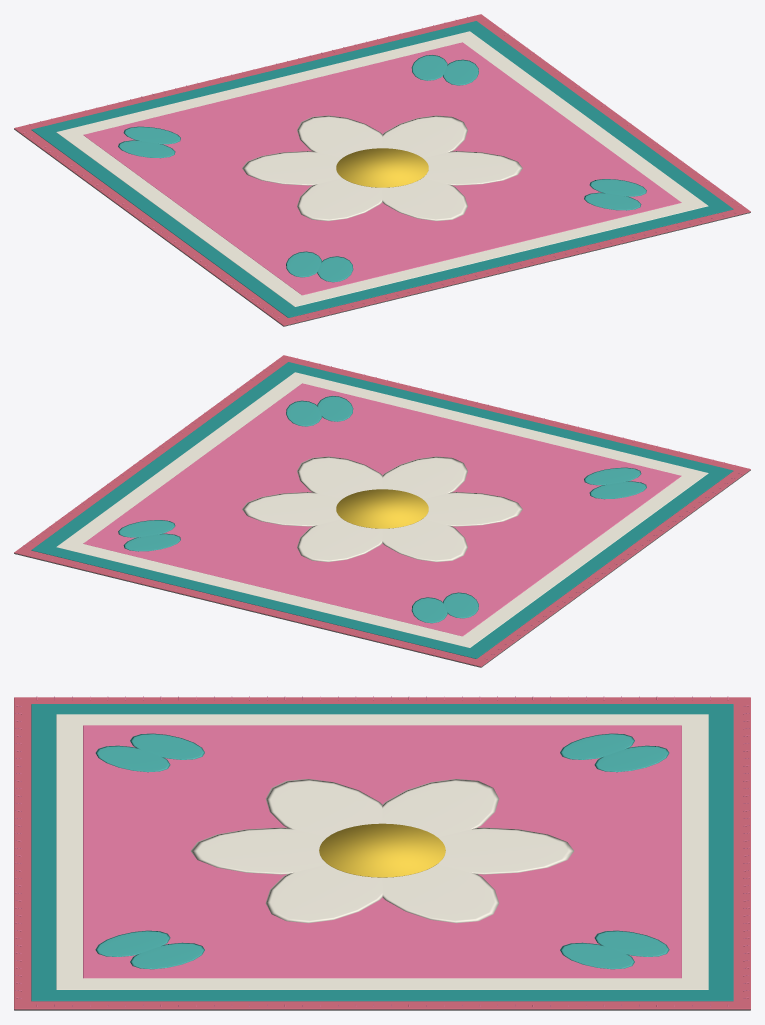
Rendered from floral_rug.glb.
The picture shows the model from 3 angles, top to bottom: view 1: azimuth 30°, elevation 25°; view 2: azimuth 150°, elevation 25°; view 3: azimuth 270°, elevation 25°; orthographic projection. The views are drawn at different scales.
Parts seen in each view (by area): view 1: Pink_field, Teal_border, Cream_border, Bound_pink_edge, Flat_yellow_centre, Flat_woven_daisy_petal.005, Flat_woven_daisy_petal, Flat_woven_daisy_petal.001, Flat_woven_daisy_petal.004, Flat_woven_daisy_petal.003, Flat_woven_daisy_petal.002, Non_slip_backing (+8 smaller); view 2: Pink_field, Teal_border, Cream_border, Bound_pink_edge, Flat_yellow_centre, Flat_woven_daisy_petal.003, Flat_woven_daisy_petal.004, Flat_woven_daisy_petal.002, Flat_woven_daisy_petal.005, Flat_woven_daisy_petal.001, Flat_woven_daisy_petal, Non_slip_backing (+8 smaller); view 3: Pink_field, Teal_border, Cream_border, Bound_pink_edge, Flat_yellow_centre, Flat_woven_daisy_petal.002, Flat_woven_daisy_petal.001, Flat_woven_daisy_petal, Flat_woven_daisy_petal.003, Flat_woven_daisy_petal.004, Flat_woven_daisy_petal.005, Non_slip_backing (+8 smaller).
Boxes of the visible parts, bbox=[...] form: Pink_field: bbox=[83, 42, 681, 295]; Teal_border: bbox=[31, 21, 733, 317]; Cream_border: bbox=[56, 31, 708, 306]; Bound_pink_edge: bbox=[14, 14, 750, 325]; Flat_yellow_centre: bbox=[336, 148, 428, 187]; Flat_woven_daisy_petal.005: bbox=[297, 178, 382, 221]; Flat_woven_daisy_petal: bbox=[382, 178, 467, 221]; Flat_woven_daisy_petal.001: bbox=[423, 151, 522, 185]; Flat_woven_daisy_petal.004: bbox=[242, 151, 341, 185]; Flat_woven_daisy_petal.003: bbox=[297, 115, 382, 158]; Flat_woven_daisy_petal.002: bbox=[382, 115, 467, 158]; Non_slip_backing: bbox=[14, 129, 750, 326]; Pink_field: bbox=[83, 383, 681, 636]; Teal_border: bbox=[31, 362, 733, 658]; Cream_border: bbox=[56, 372, 708, 647]; Bound_pink_edge: bbox=[14, 355, 750, 666]; Flat_yellow_centre: bbox=[336, 489, 428, 528]; Flat_woven_daisy_petal.003: bbox=[297, 519, 382, 562]; Flat_woven_daisy_petal.004: bbox=[382, 519, 467, 562]; Flat_woven_daisy_petal.002: bbox=[242, 492, 341, 526]; Flat_woven_daisy_petal.005: bbox=[423, 492, 522, 526]; Flat_woven_daisy_petal.001: bbox=[297, 456, 382, 499]; Flat_woven_daisy_petal: bbox=[382, 456, 467, 499]; Non_slip_backing: bbox=[14, 470, 750, 667]; Pink_field: bbox=[83, 725, 681, 978]; Teal_border: bbox=[31, 704, 733, 1001]; Cream_border: bbox=[56, 714, 708, 989]; Bound_pink_edge: bbox=[14, 697, 750, 1009]; Flat_yellow_centre: bbox=[319, 823, 445, 877]; Flat_woven_daisy_petal.002: bbox=[382, 864, 499, 923]; Flat_woven_daisy_petal.001: bbox=[265, 864, 382, 923]; Flat_woven_daisy_petal: bbox=[191, 827, 327, 874]; Flat_woven_daisy_petal.003: bbox=[437, 827, 573, 874]; Flat_woven_daisy_petal.004: bbox=[382, 779, 499, 837]; Flat_woven_daisy_petal.005: bbox=[265, 779, 382, 837]; Non_slip_backing: bbox=[14, 1009, 750, 1010].
Bounding box in the file's own units: 1.92 × 0.0133 × 1.92.
